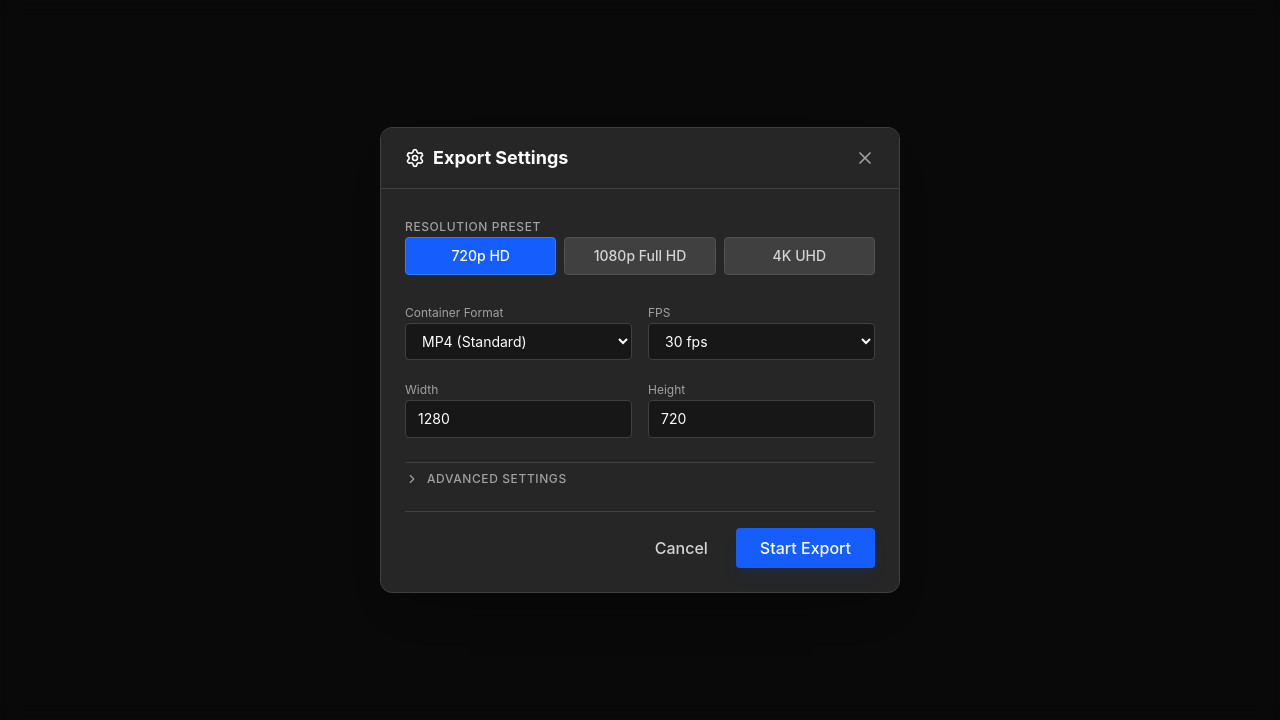
Test case: ExportModal › toggles advanced settings and updates codec defaults
This screenshot has width=1280, height=720.
Expected: the text "Video Encoding" is not shown
Note: Toggle Advanced
Click the button "Advanced Settings" at (497, 478), box [405,462,875,487]
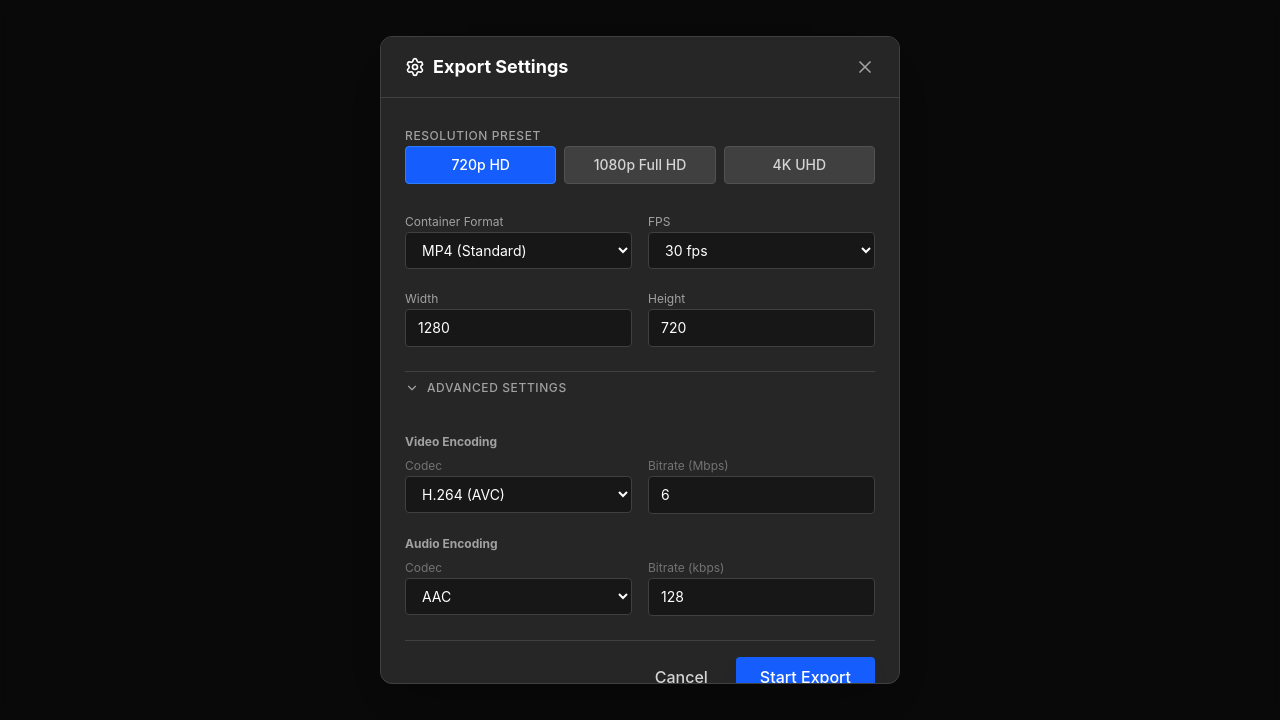
Result: the text "Video Encoding" is shown at [405,434,497,449]
Result: the dropdown labelled "Codec" below "Bitrate (Mbps)" shows "H.264 (AVC)" at [405,476,632,513]
Note: Change to WebM
Select "WebM (Open Web)" in the dropdown labelled "Container Format" at (518, 250), box [405,232,632,269]
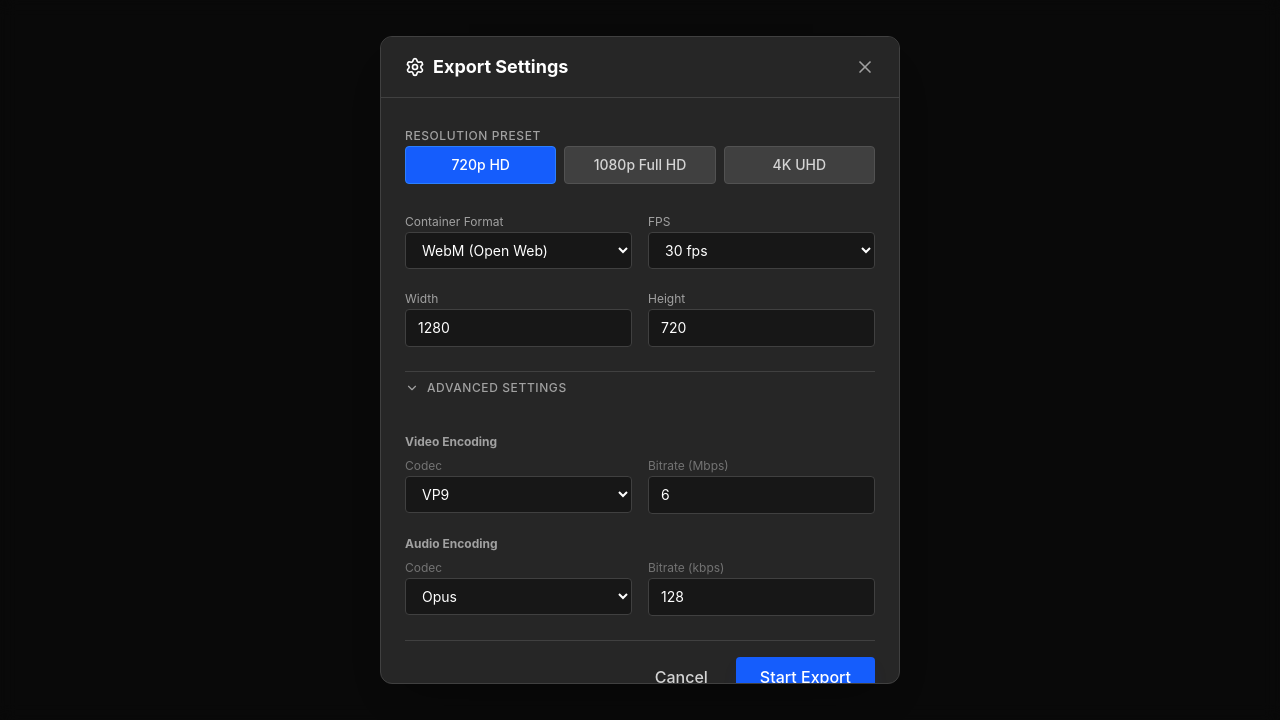
Result: the dropdown labelled "Codec" below "Bitrate (Mbps)" shows "VP9" at [405,476,632,513]
Result: the dropdown labelled "Codec" below "Bitrate (kbps)" shows "Opus" at [405,578,632,615]
